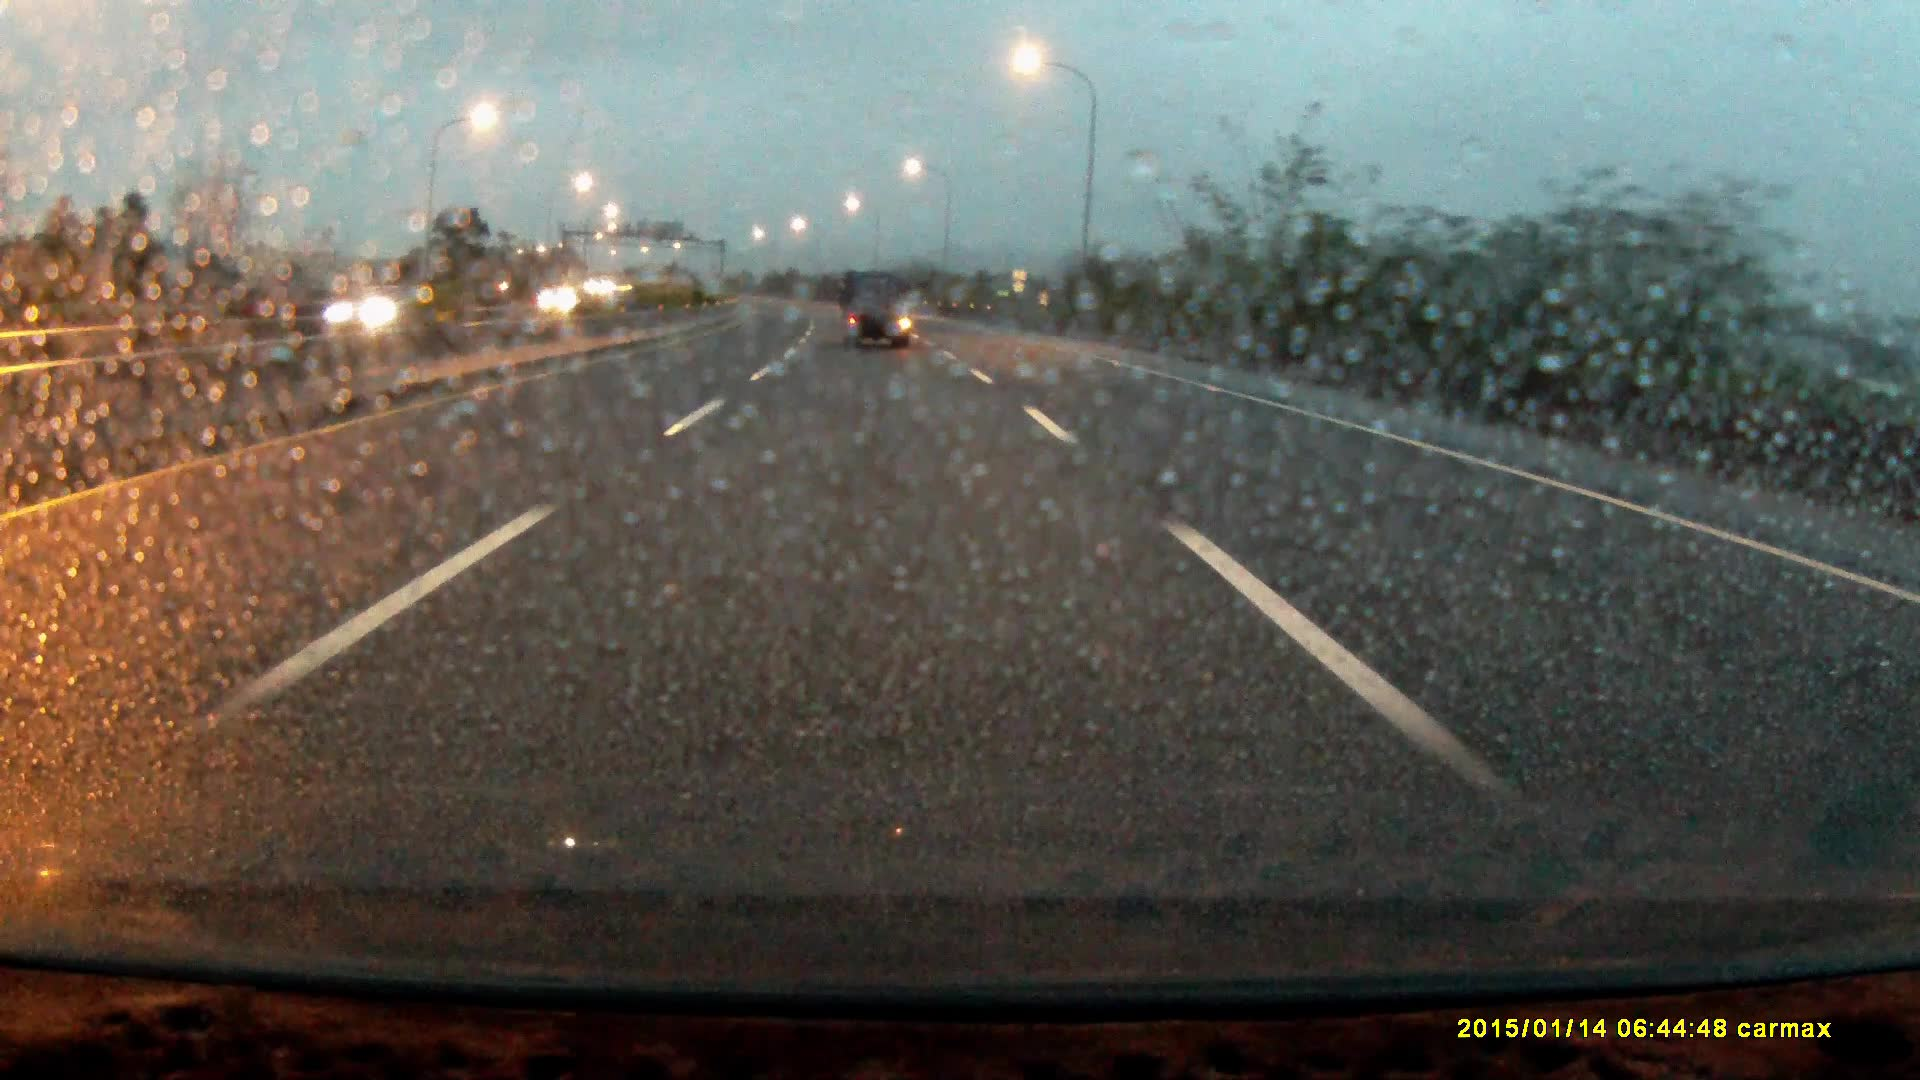vehicle: (309, 289, 427, 338), (840, 276, 913, 352)
